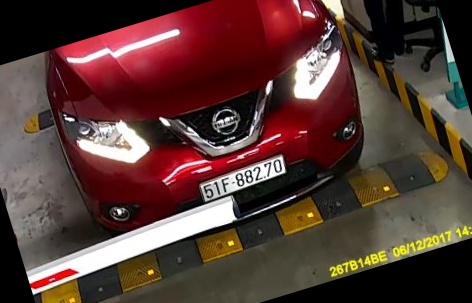plate: (197, 158, 302, 204)
